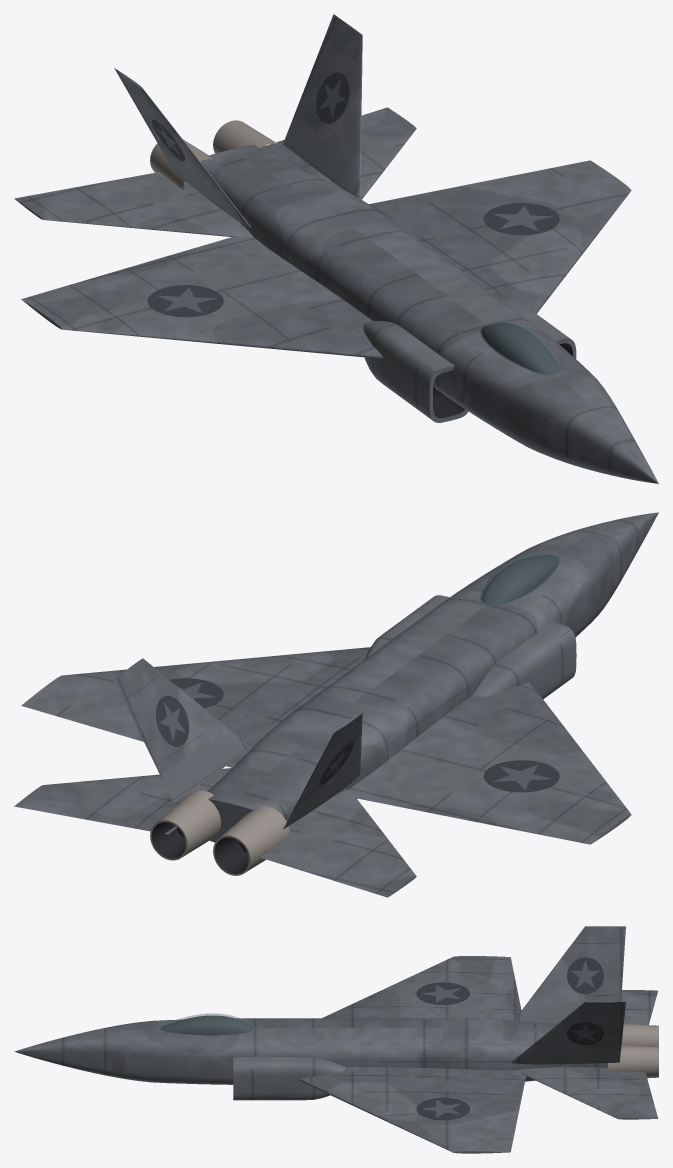
3 views of the same model, one above another, from view 1: azimuth 30°, elevation 25°; view 2: azimuth 150°, elevation 25°; view 3: azimuth 270°, elevation 25° (orthographic). The views are drawn at different scales.
Visible parts, largest first — view 1: Fuselage, Wing0_R, Wing0_L, Htail2_R, Fin3_L, Intake_R, Htail2_L, Fin3_R, Canopy, Cockpit, Decal_Wing_U_L, Decal_Wing_U_R (+4 smaller); view 2: Fuselage, Wing0_R, Wing0_L, Htail2_R, Fin3_L, Htail2_L, Intake_R, Nozzle_R, Nozzle_L, Fin3_R, Canopy, Cockpit (+4 smaller); view 3: Fuselage, Wing0_L, Wing0_R, Fin3_R, Htail2_L, Fin3_L, Intake_L, Canopy, Cockpit, Nozzle_L, Decal_Fin_a_R, Htail2_R (+4 smaller).
Boxes of the visible parts, x1=… form: Fuselage: x1=200, y1=144, x2=658, y2=483; Wing0_R: x1=21, y1=237, x2=382, y2=358; Wing0_L: x1=369, y1=160, x2=631, y2=313; Htail2_R: x1=14, y1=172, x2=253, y2=237; Fin3_L: x1=283, y1=14, x2=362, y2=198; Intake_R: x1=363, y1=321, x2=468, y2=422; Htail2_L: x1=266, y1=107, x2=416, y2=199; Fin3_R: x1=114, y1=68, x2=251, y2=227; Canopy: x1=480, y1=321, x2=561, y2=376; Cockpit: x1=481, y1=323, x2=559, y2=375; Decal_Wing_U_L: x1=483, y1=203, x2=559, y2=235; Decal_Wing_U_R: x1=147, y1=285, x2=223, y2=317; Fuselage: x1=207, y1=512, x2=658, y2=842; Wing0_R: x1=349, y1=682, x2=631, y2=844; Wing0_L: x1=21, y1=647, x2=370, y2=767; Htail2_R: x1=261, y1=789, x2=416, y2=897; Fin3_L: x1=114, y1=658, x2=251, y2=802; Htail2_L: x1=14, y1=768, x2=231, y2=834; Intake_R: x1=473, y1=622, x2=576, y2=699; Nozzle_R: x1=213, y1=805, x2=289, y2=875; Nozzle_L: x1=150, y1=790, x2=220, y2=860; Fin3_R: x1=283, y1=712, x2=362, y2=829; Canopy: x1=480, y1=553, x2=561, y2=605; Cockpit: x1=481, y1=555, x2=559, y2=605; Fuselage: x1=14, y1=1018, x2=607, y2=1084; Wing0_L: x1=298, y1=1067, x2=525, y2=1153; Wing0_R: x1=322, y1=956, x2=521, y2=1020; Fin3_R: x1=514, y1=926, x2=625, y2=1024; Htail2_L: x1=517, y1=1067, x2=658, y2=1119; Fin3_L: x1=511, y1=1001, x2=625, y2=1064; Intake_L: x1=233, y1=1057, x2=345, y2=1100; Canopy: x1=158, y1=1013, x2=254, y2=1035; Cockpit: x1=160, y1=1015, x2=253, y2=1035; Nozzle_L: x1=608, y1=1045, x2=658, y2=1078; Decal_Fin_a_R: x1=567, y1=957, x2=603, y2=994; Htail2_R: x1=621, y1=990, x2=657, y2=1024.
Size of the model in its own units: 13.56 by 3.71 by 18.92.
Materials: 6 (2 with a texture image).
